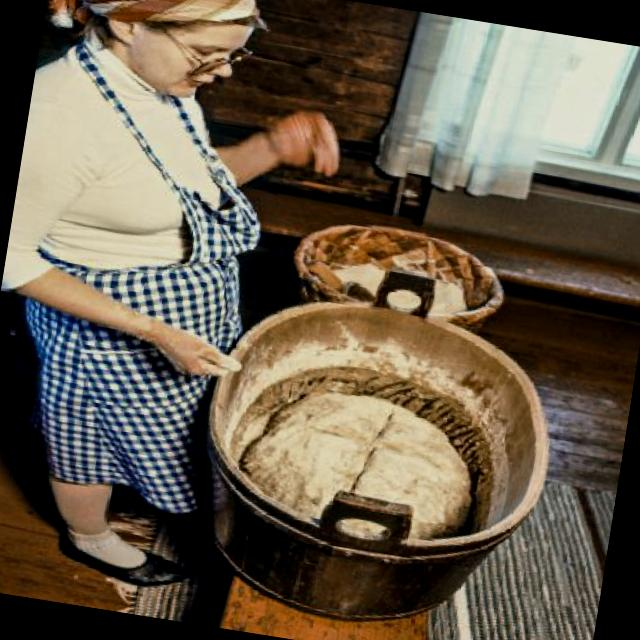Person: (0, 0, 342, 623)
